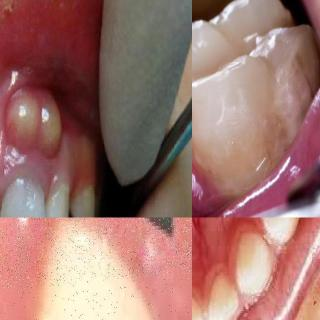Gum Swelling: (87, 218, 192, 320), (0, 218, 74, 320)
plaque: (232, 64, 320, 159)
